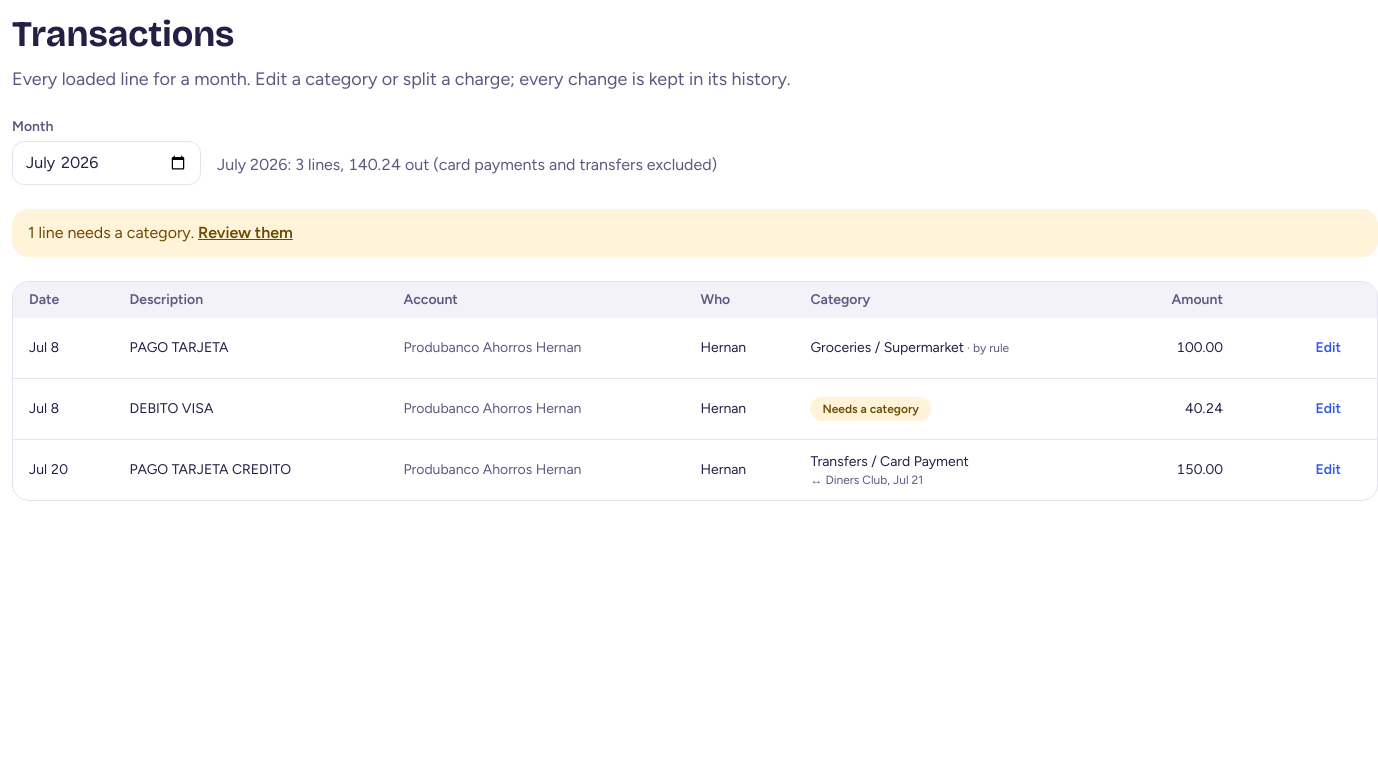
Test: Transactions editing › shows a matched transfer's other side and unlinks it
Expected: the text "↔ Diners Club, Jul 21" is shown, [810,473,923,487]
Click the button with aria-label "Edit PAGO TARJETA CREDITO". click: (1328, 470)
box: [1296,448,1361,492]
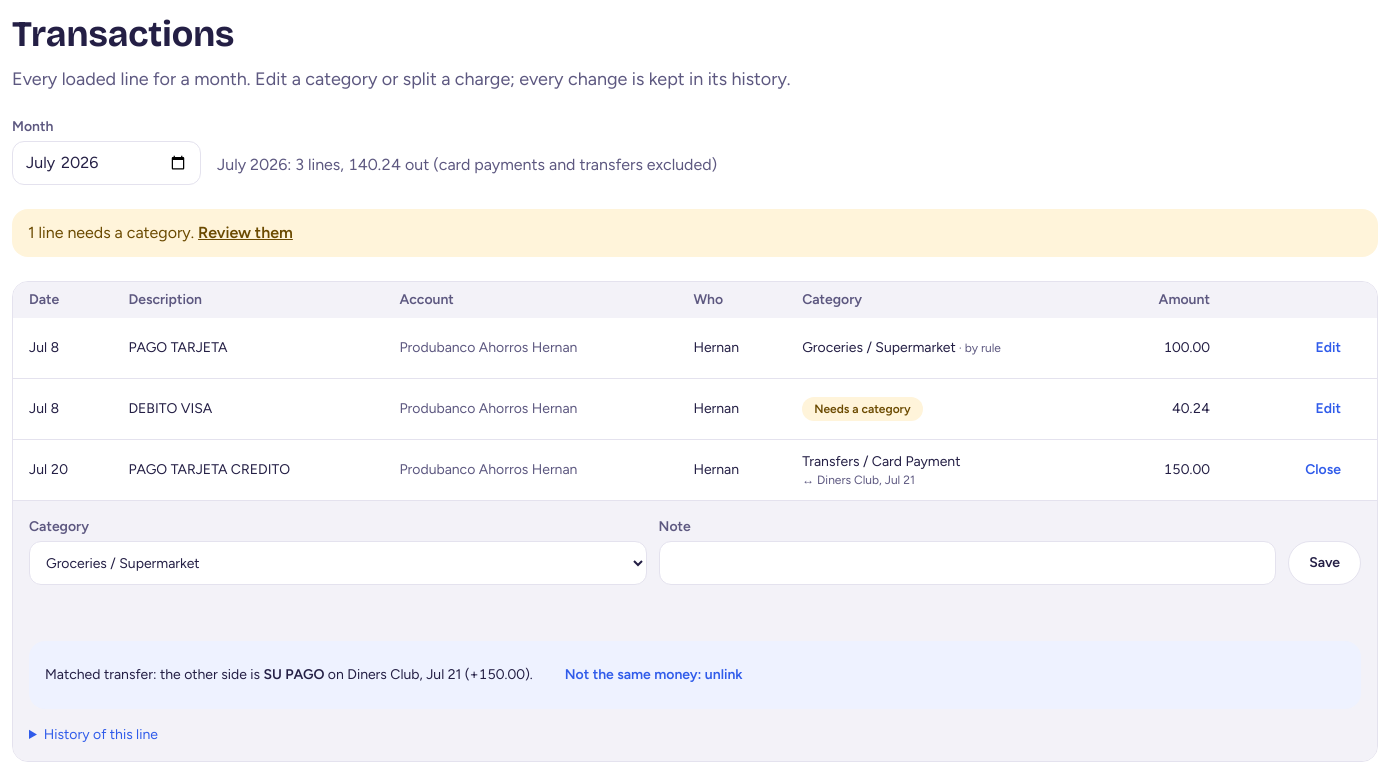
Expected: the button "Split across categories" is not shown
Expected: the text "Matched transfer: the other side is" is shown, [45,666,264,683]
Click the button "Not the same money: unlink". click: (654, 675)
box: [545,653,763,697]
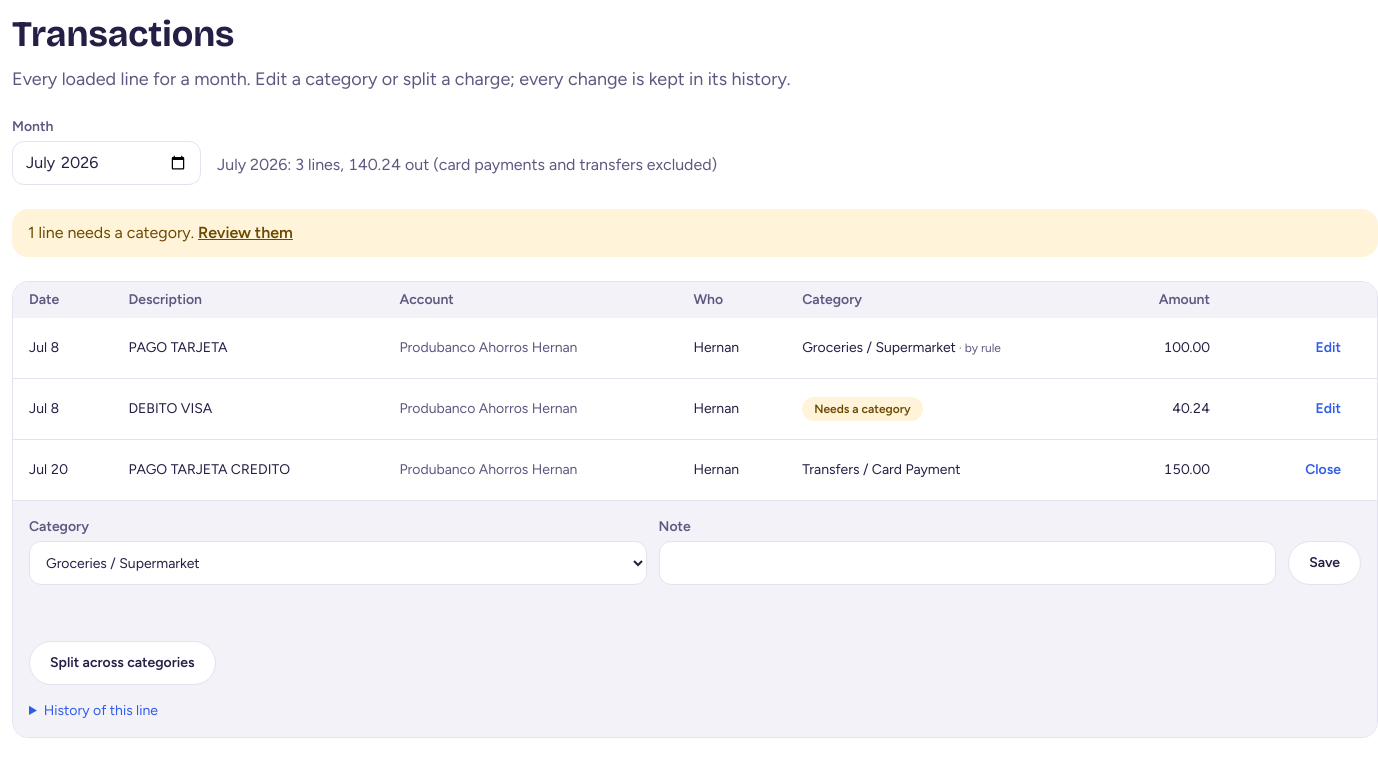
Expected: the text "↔ Diners Club" is gone
